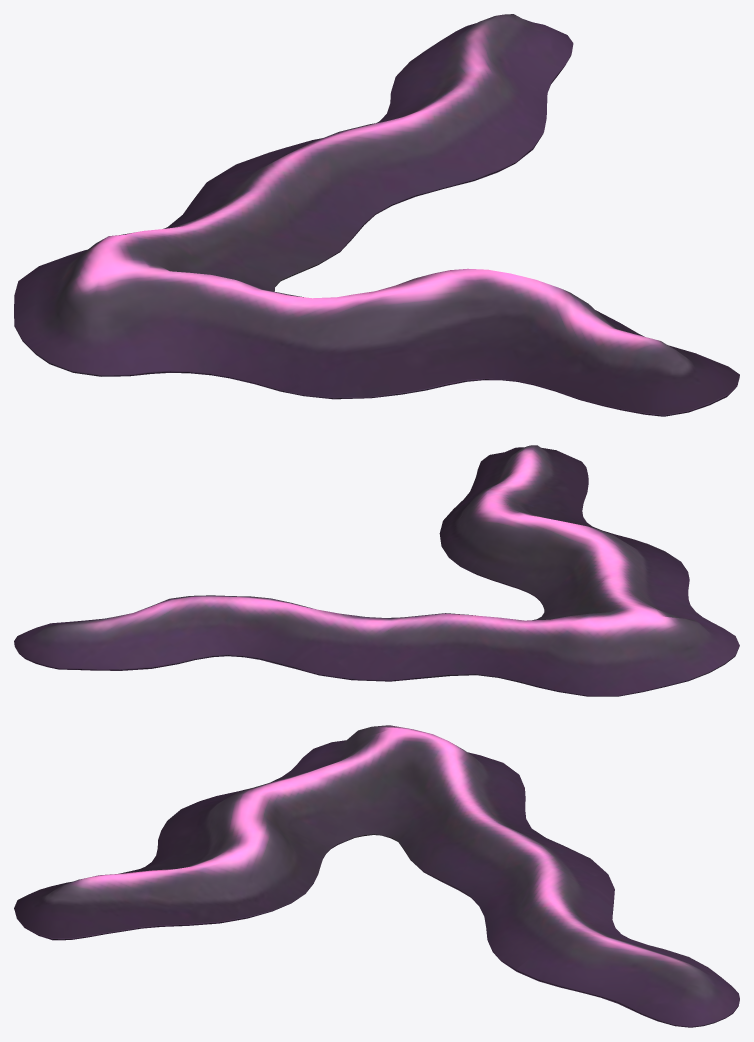
The model's file is caos_sts_chaosgrowth_02d_chaos_v36.glb.
The picture shows the model from 3 angles, top to bottom: view 1: azimuth 30°, elevation 25°; view 2: azimuth 150°, elevation 25°; view 3: azimuth 270°, elevation 25°; orthographic projection. The views are drawn at different scales.
Parts seen in each view (by area): view 1: caos_sts_chaosgrowth_02d; view 2: caos_sts_chaosgrowth_02d; view 3: caos_sts_chaosgrowth_02d.
Part boxes in pixels (box(x1,y1,x2,y2)): caos_sts_chaosgrowth_02d: box(14, 14, 739, 416); caos_sts_chaosgrowth_02d: box(14, 445, 739, 696); caos_sts_chaosgrowth_02d: box(14, 725, 739, 1027).
Bounding box in the file's own units: 9.59 × 0.7368 × 10.24.
1 material, 1 textured.
